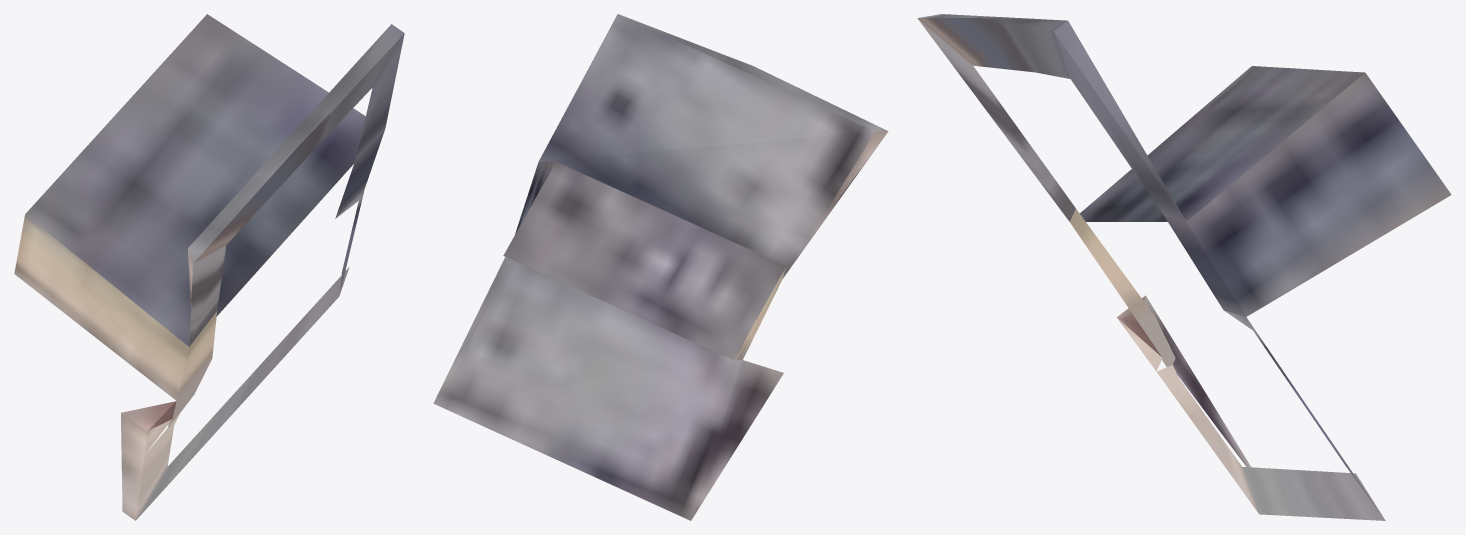
3 views of the same model, side by side, from view 1: azimuth 30°, elevation 25°; view 2: azimuth 150°, elevation 25°; view 3: azimuth 270°, elevation 25° (orthographic). The views are drawn at different scales.
Bounding box in the file's own units: 16.18 × 21.41 × 17.57.
1 material, 1 textured.
